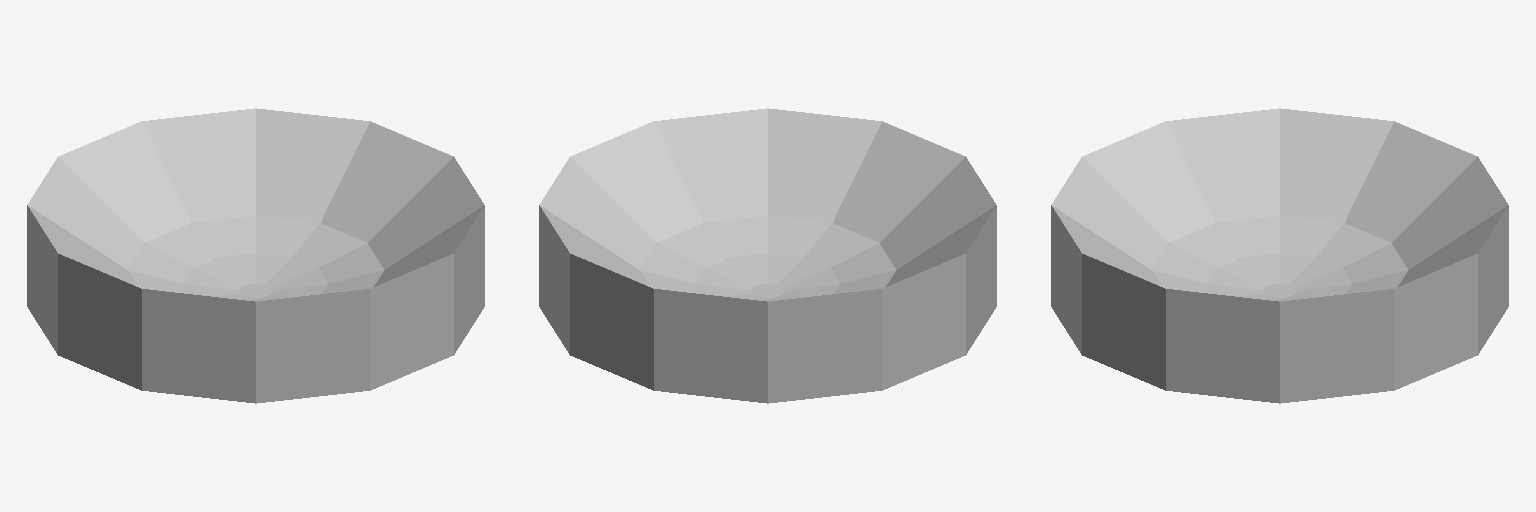
The model's file is SteelDrum.obj.
The picture shows the model from 3 angles: view 1: azimuth 30°, elevation 25°; view 2: azimuth 150°, elevation 25°; view 3: azimuth 270°, elevation 25°; orthographic projection.
Visible parts, largest first — view 1: Converted object 0; view 2: Converted object 0; view 3: Converted object 0.
Boxes of the visible parts, x1,y1,x2,y2 form: Converted object 0: [27, 108, 484, 403]; Converted object 0: [539, 108, 996, 403]; Converted object 0: [1051, 108, 1508, 403].
Bounding box in the file's own units: 21.5 × 5.29 × 21.5.